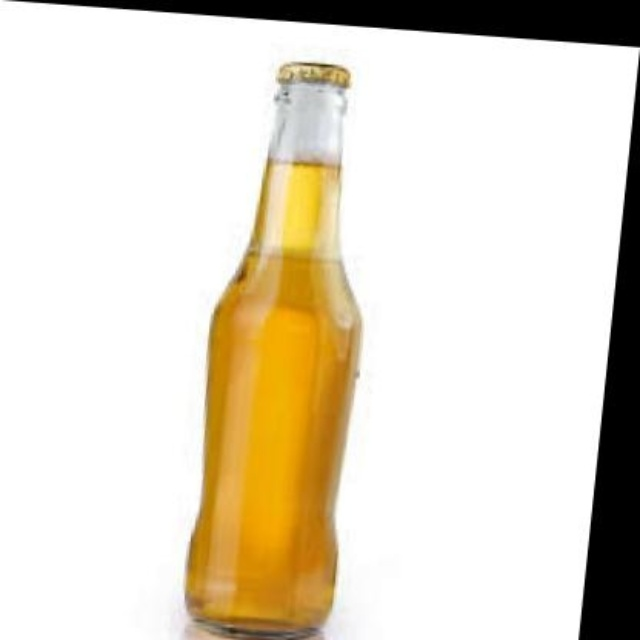trash: (186, 62, 360, 635)
